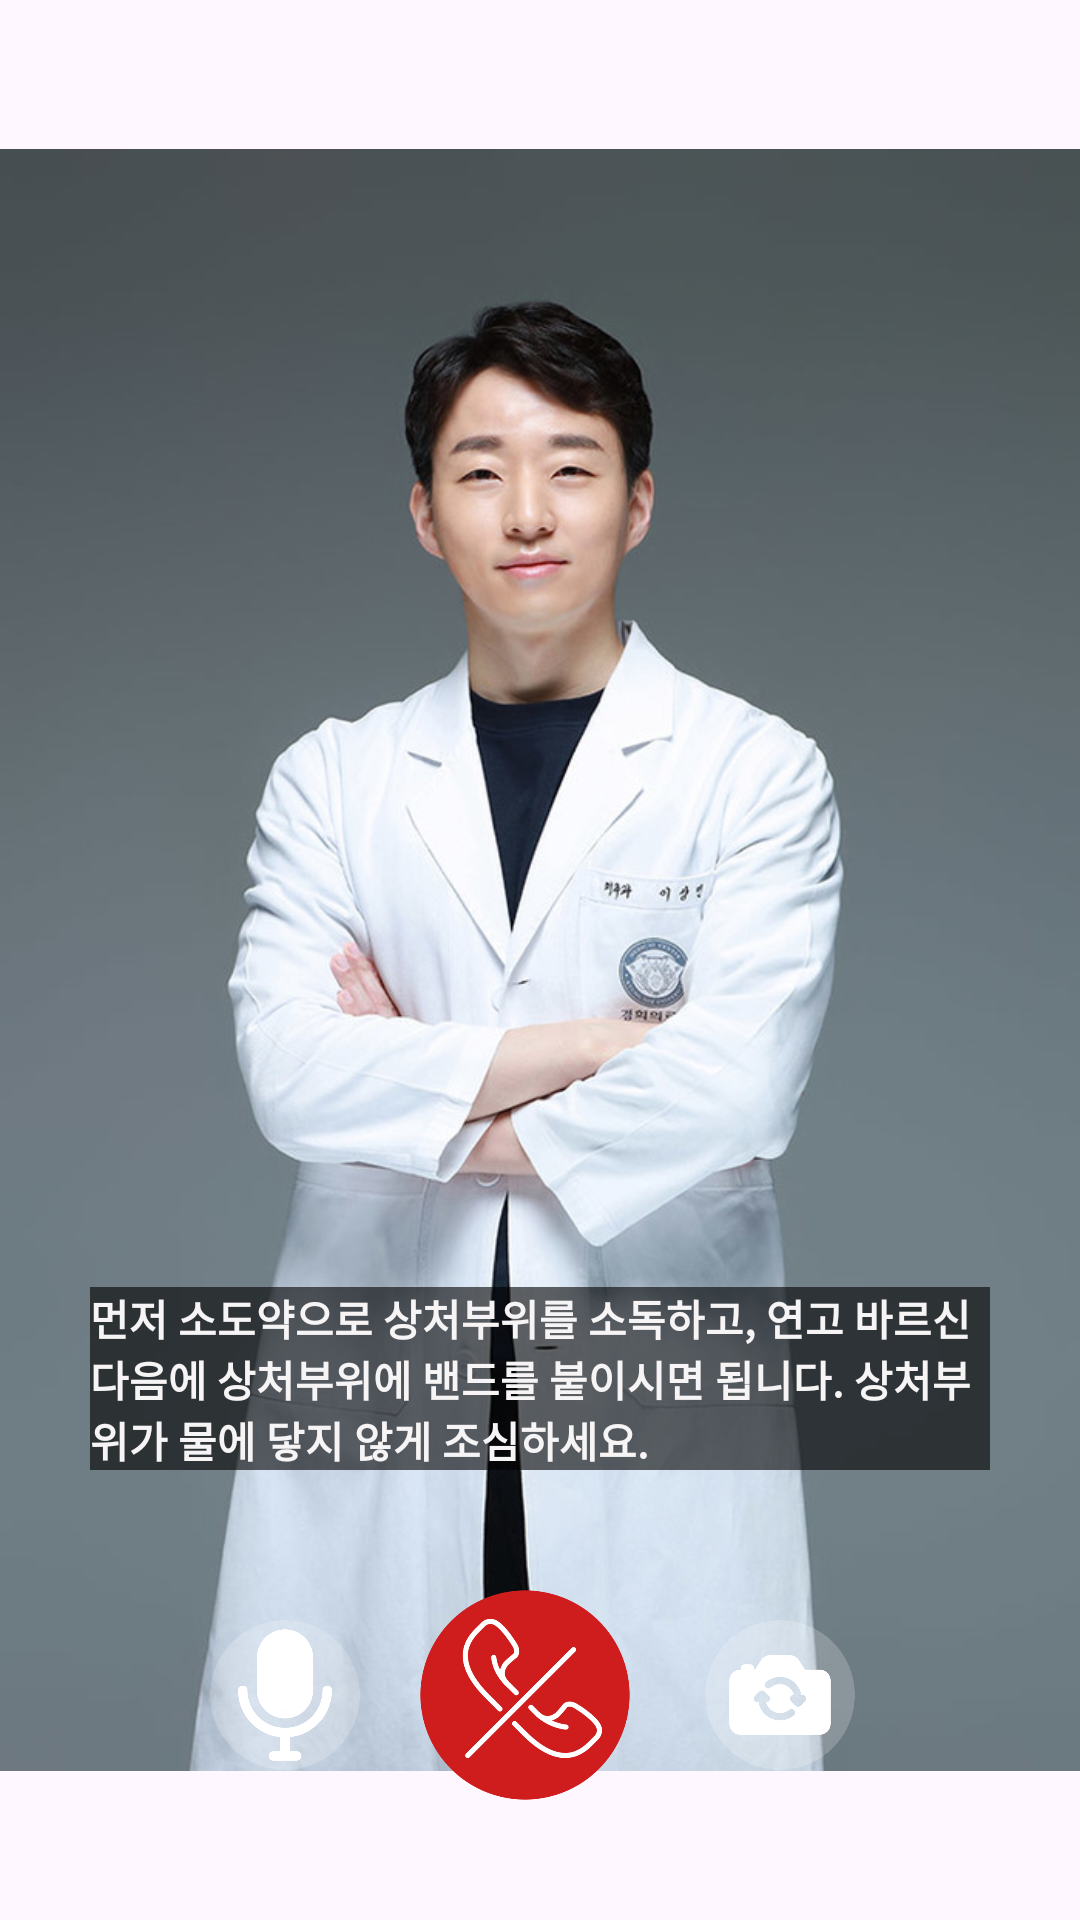

Named icons in this screenshot (1080 × 1920) and their centers, (x,y):
call end: (525,1695)
camera return: (780,1695)
mike: (288,1695)
